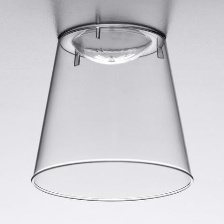glass: (26, 17, 198, 203)
